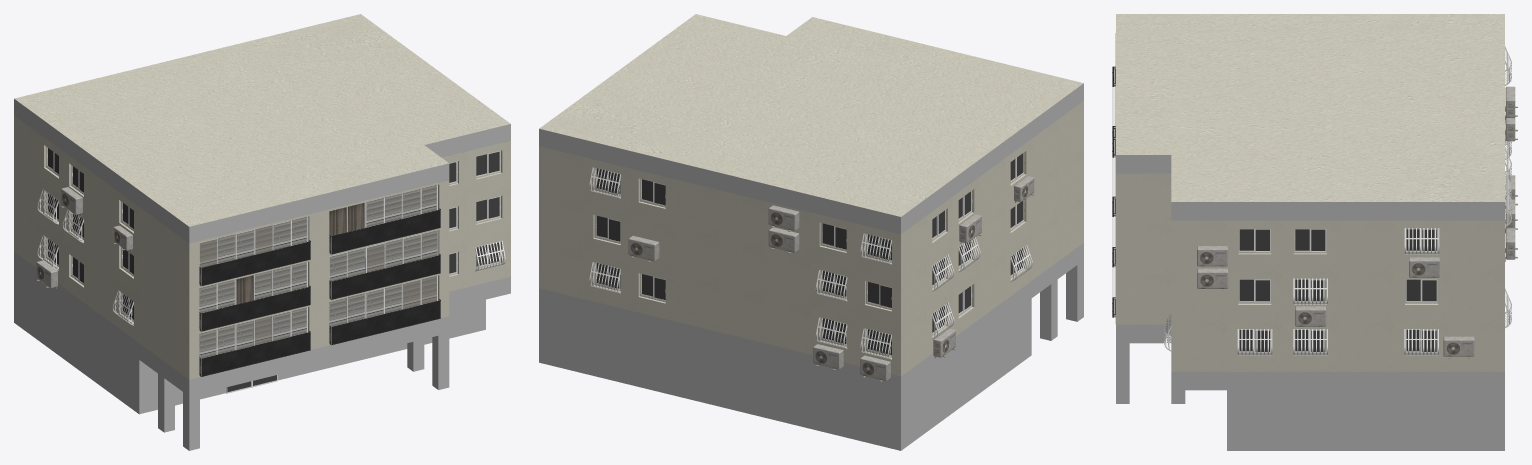
Rendered from SM_Building_02_b.fbx.
3 renders of one model, left to right at view 1: azimuth 30°, elevation 25°; view 2: azimuth 150°, elevation 25°; view 3: azimuth 270°, elevation 25°, orthographic. The views are drawn at different scales.
Visible parts, largest first — view 1: SM_Building_02_b; view 2: SM_Building_02_b; view 3: SM_Building_02_b.
Boxes of the visible parts, <box> form: SM_Building_02_b: <box>14,14,510,450</box>; SM_Building_02_b: <box>539,14,1083,450</box>; SM_Building_02_b: <box>1112,14,1517,450</box>.
Size of the model in its own units: 2538 by 1486 by 2190.
